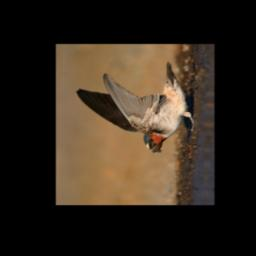Swallow: (72, 58, 199, 155)
